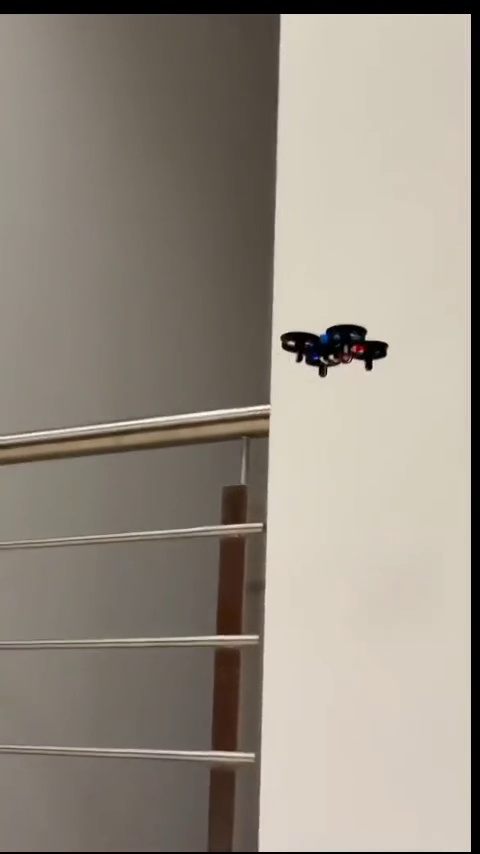drone: (281, 325, 386, 371)
